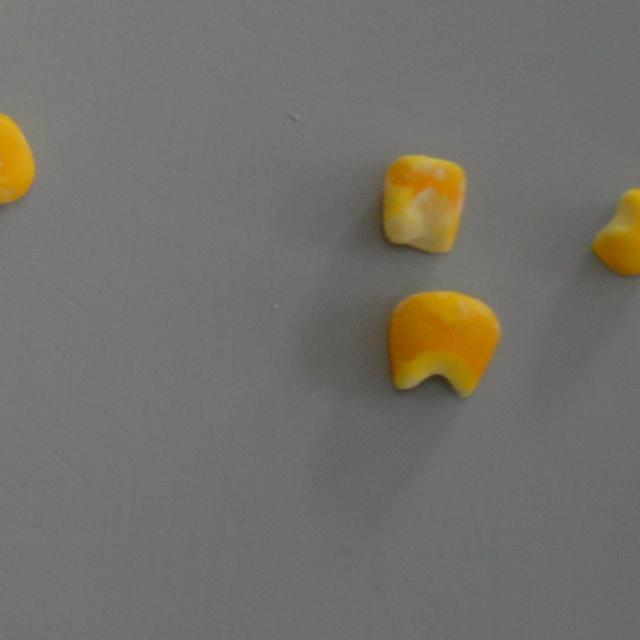no_canjicado: (384, 288, 504, 402)
no_desgerminado: (590, 184, 639, 278), (0, 106, 38, 212)
pelicula: (378, 150, 466, 258)
